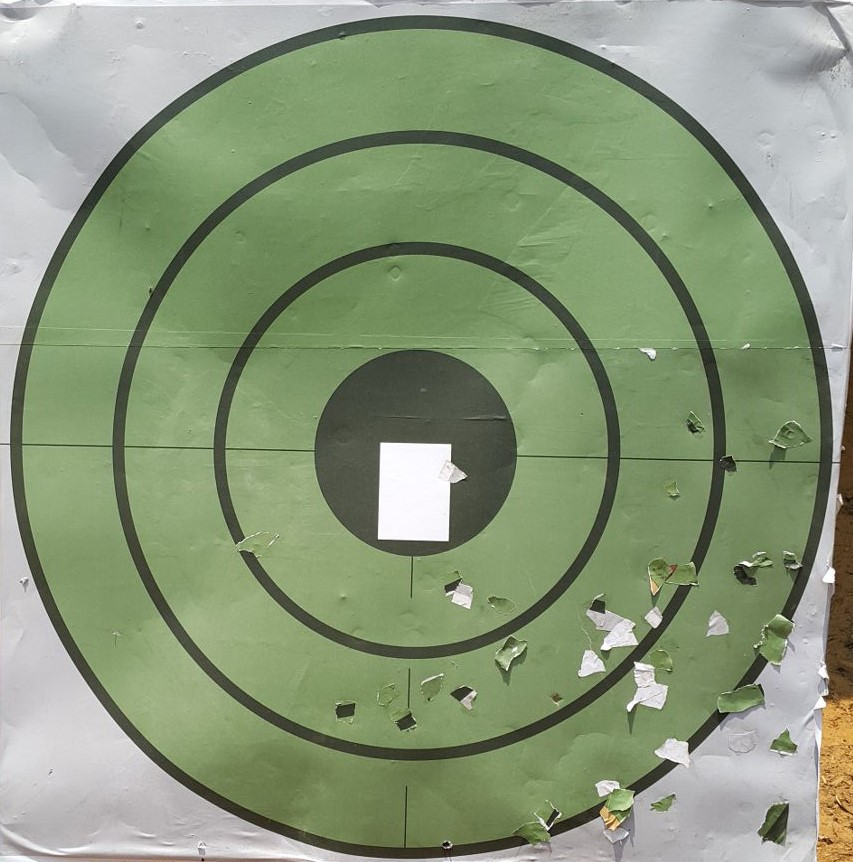Bullet: (553, 695, 559, 702), (443, 841, 450, 846)
